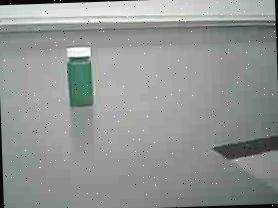Bottle C: (56, 42, 102, 115)
